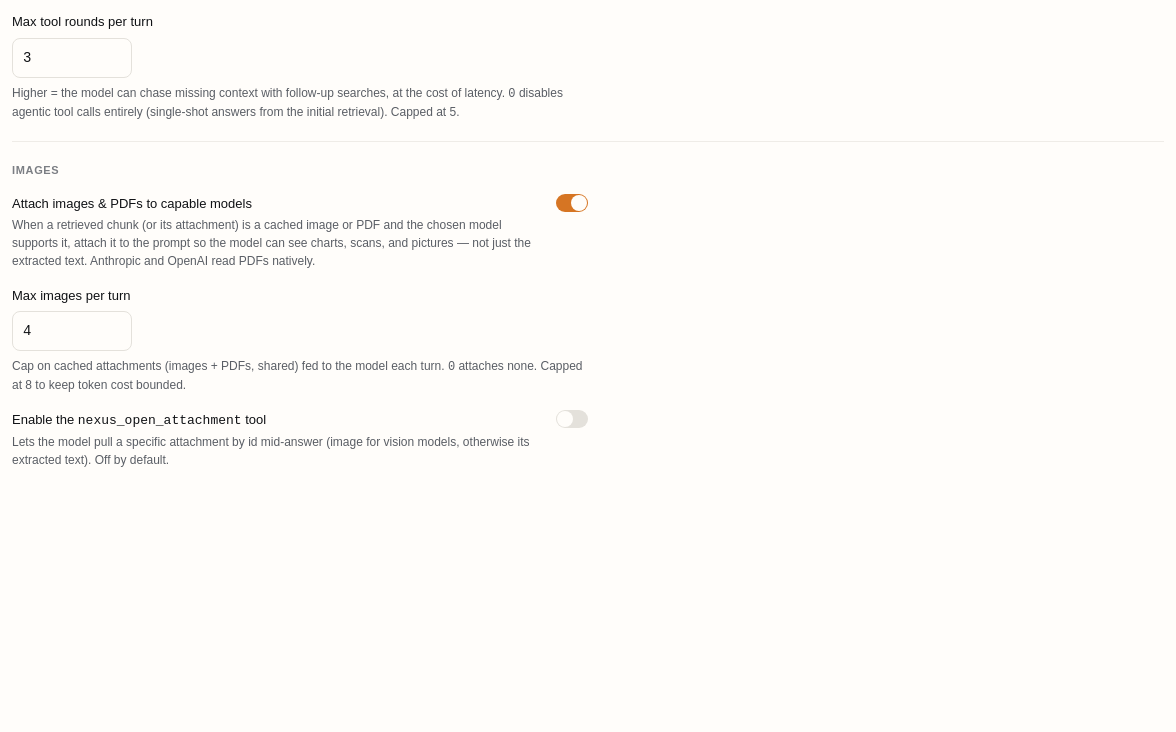
RAGForm › disables the images input when multimodal is off
Expected: the number field named "Max images per turn" is enabled, [12,311,132,351]
Click the switch named "Attach images": [572, 203] box [556,194,588,212]
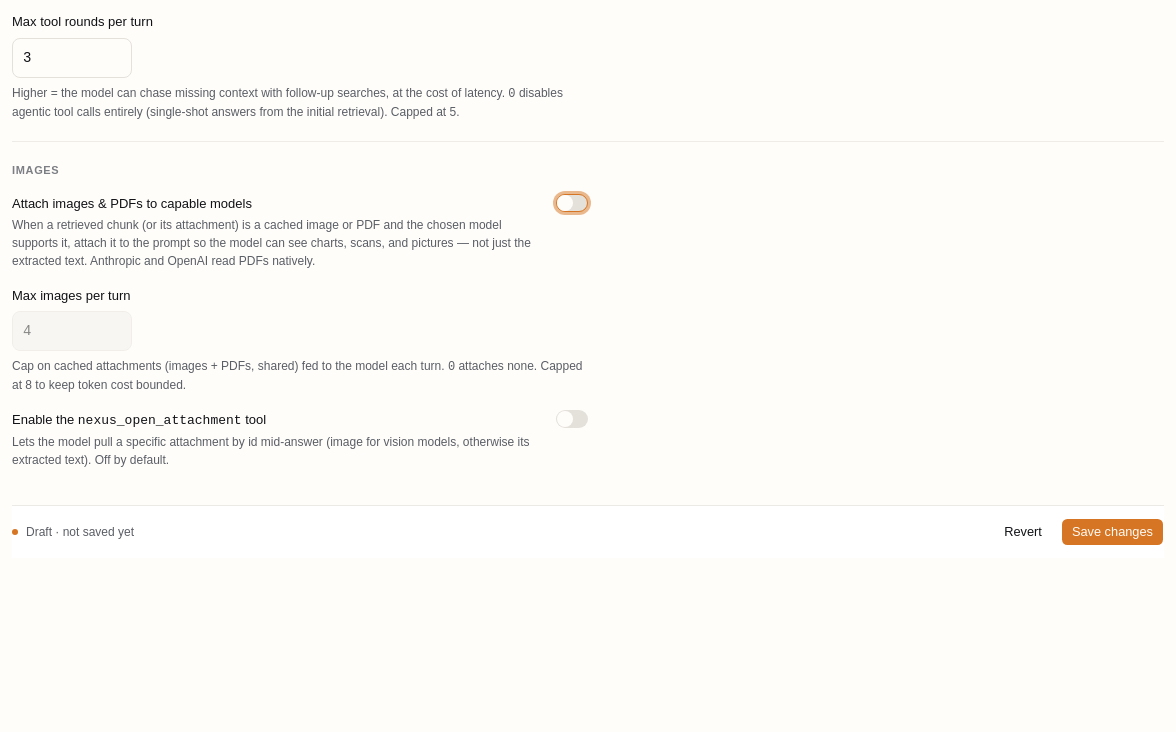
Now the number field named "Max images per turn" is disabled, box [12,311,132,351]
